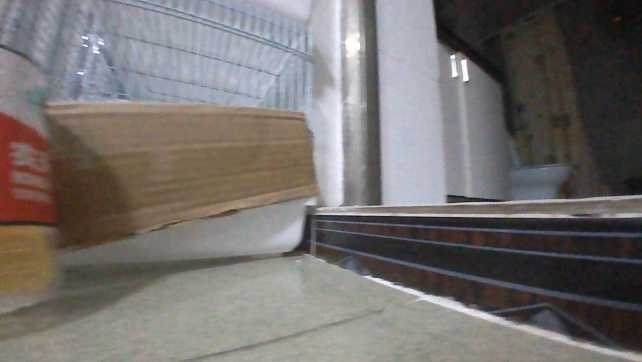door_sill: (314, 193, 635, 360)
toilet: (503, 130, 570, 200)
